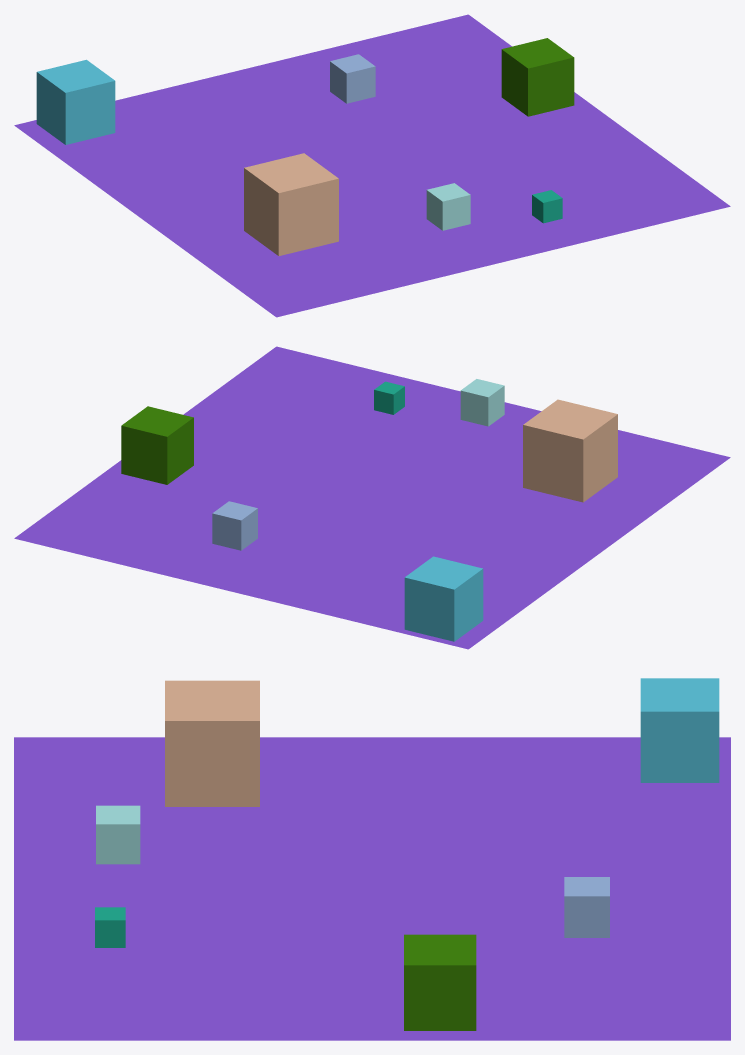
The model's file is boxScene.DAE.
The picture shows the model from 3 angles, top to bottom: view 1: azimuth 30°, elevation 25°; view 2: azimuth 150°, elevation 25°; view 3: azimuth 270°, elevation 25°; orthographic projection. The views are drawn at different scales.
Parts seen in each view (by area): view 1: Plane01, Box03, Box01, Box05, Box02, Box06, Box04; view 2: Plane01, Box03, Box01, Box05, Box02, Box06, Box04; view 3: Plane01, Box03, Box01, Box05, Box02, Box06, Box04.
Boxes of the visible parts, x1=… form: Plane01: x1=14, y1=14, x2=730, y2=317; Box03: x1=244, y1=153, x2=338, y2=255; Box01: x1=36, y1=59, x2=115, y2=144; Box05: x1=501, y1=38, x2=574, y2=116; Box02: x1=330, y1=54, x2=375, y2=103; Box06: x1=426, y1=183, x2=470, y2=230; Box04: x1=532, y1=190, x2=562, y2=223; Plane01: x1=14, y1=346, x2=730, y2=649; Box03: x1=523, y1=399, x2=617, y2=502; Box01: x1=404, y1=556, x2=483, y2=641; Box05: x1=121, y1=406, x2=193, y2=484; Box02: x1=212, y1=501, x2=257, y2=550; Box06: x1=460, y1=379, x2=504, y2=426; Box04: x1=374, y1=381, x2=404, y2=414; Plane01: x1=14, y1=737, x2=730, y2=1040; Box03: x1=165, y1=680, x2=259, y2=806; Box01: x1=640, y1=678, x2=719, y2=782; Box05: x1=404, y1=934, x2=476, y2=1030; Box02: x1=564, y1=877, x2=609, y2=937; Box06: x1=96, y1=805, x2=140, y2=864; Box04: x1=95, y1=907, x2=125, y2=947.
Bounding box in the file's own units: 142 × 142 × 20.86.
